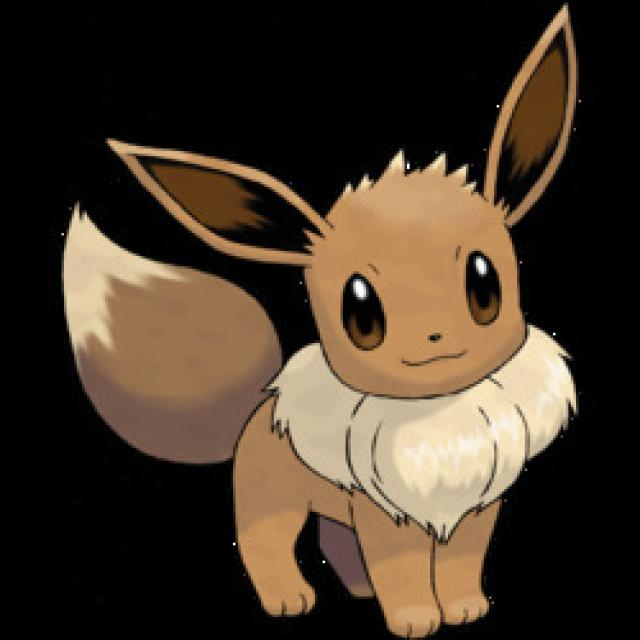Eevee: (162, 98, 556, 626)
